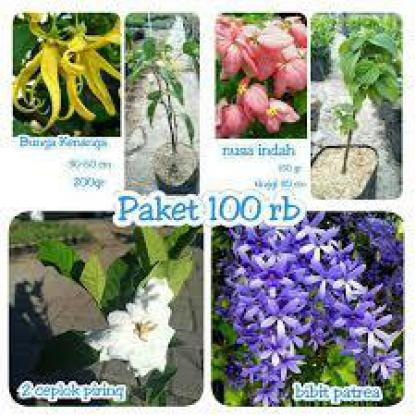Kenanga: (20, 27, 108, 116)
